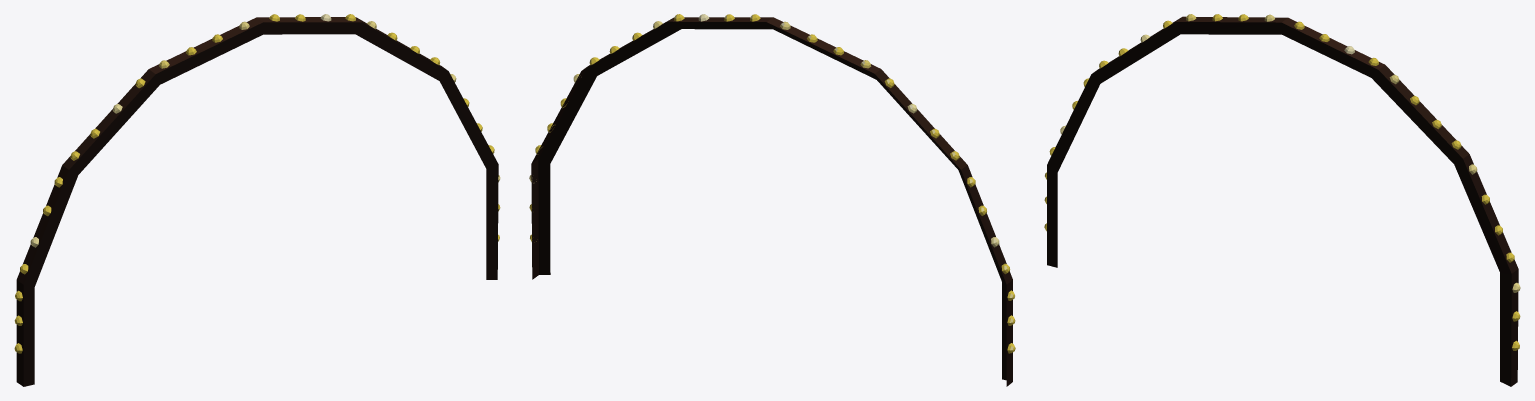
File: RDMALights.fbx
3 renders of one model, left to right at view 1: azimuth 30°, elevation 25°; view 2: azimuth 150°, elevation 25°; view 3: azimuth 330°, elevation 25°, orthographic. The views are drawn at different scales.
Parts seen in each view (by area): view 1: RDMALights; view 2: RDMALights; view 3: RDMALights.
Boxes of the visible parts, box(x1,y1,x2,y2) form: RDMALights: box(14, 14, 500, 386); RDMALights: box(529, 14, 1015, 386); RDMALights: box(1044, 14, 1520, 386).
Bounding box in the file's own units: 639 × 399 × 15.67.
